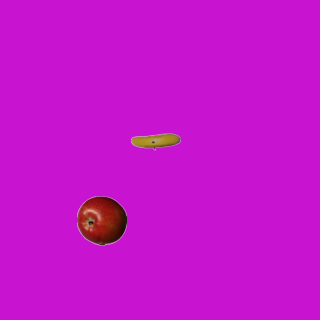Apple Braeburn: (76, 195, 126, 245)
Banana: (130, 116, 180, 166)
